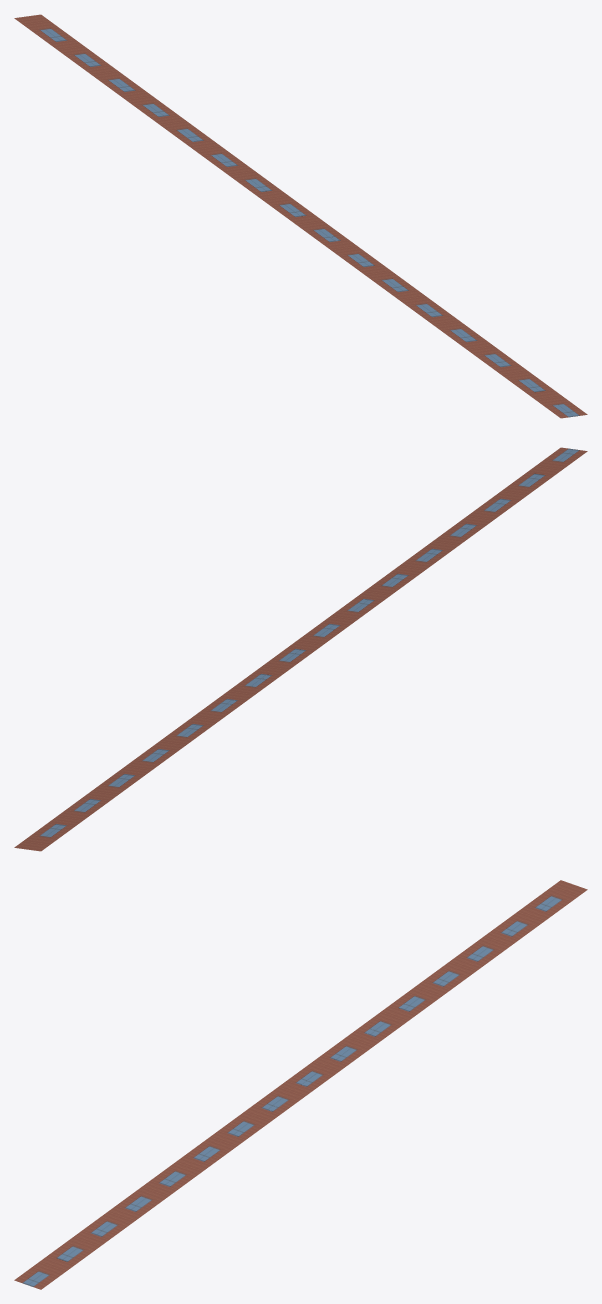
File: data10.glb
3 views of the same model, one above another, from view 1: azimuth 30°, elevation 25°; view 2: azimuth 150°, elevation 25°; view 3: azimuth 330°, elevation 25° (orthographic).
Visible parts, largest first — view 1: data10; view 2: data10; view 3: data10.
Part boxes in pixels (x1=…): data10: x1=14, y1=14, x2=587, y2=418; data10: x1=14, y1=447, x2=587, y2=851; data10: x1=14, y1=880, x2=587, y2=1289.
Size of the model in its own units: 2.75 by 0.2813 by 96.
1 material, 1 textured.
